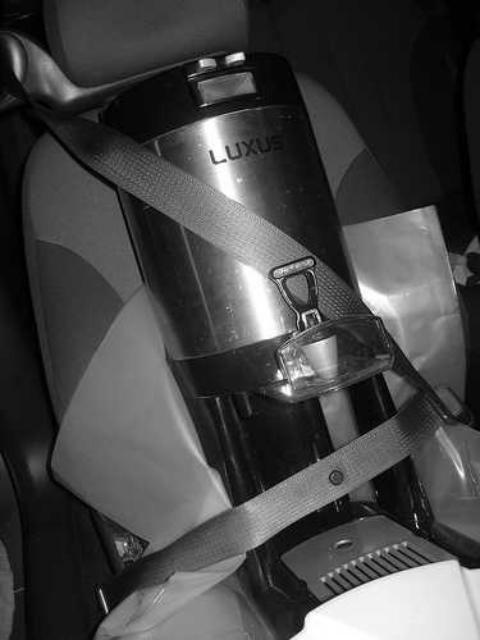Seatbelt: (18, 92, 470, 574)
